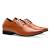shoe: (2, 13, 49, 39)
